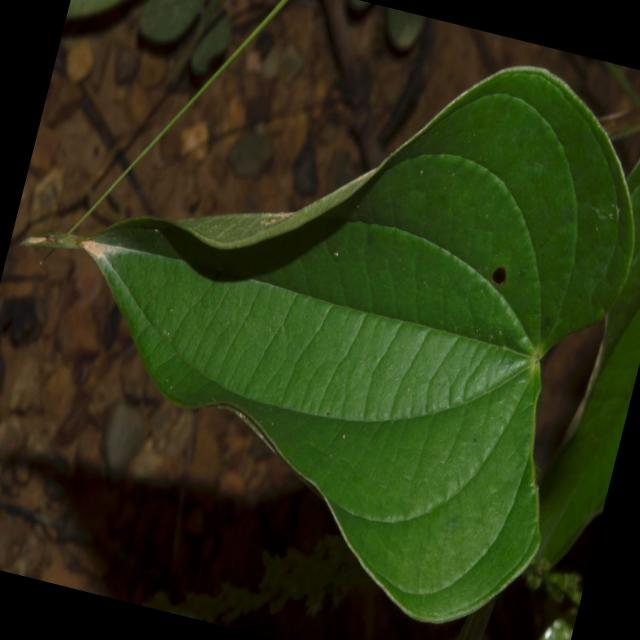Yam: (7, 0, 640, 640)
